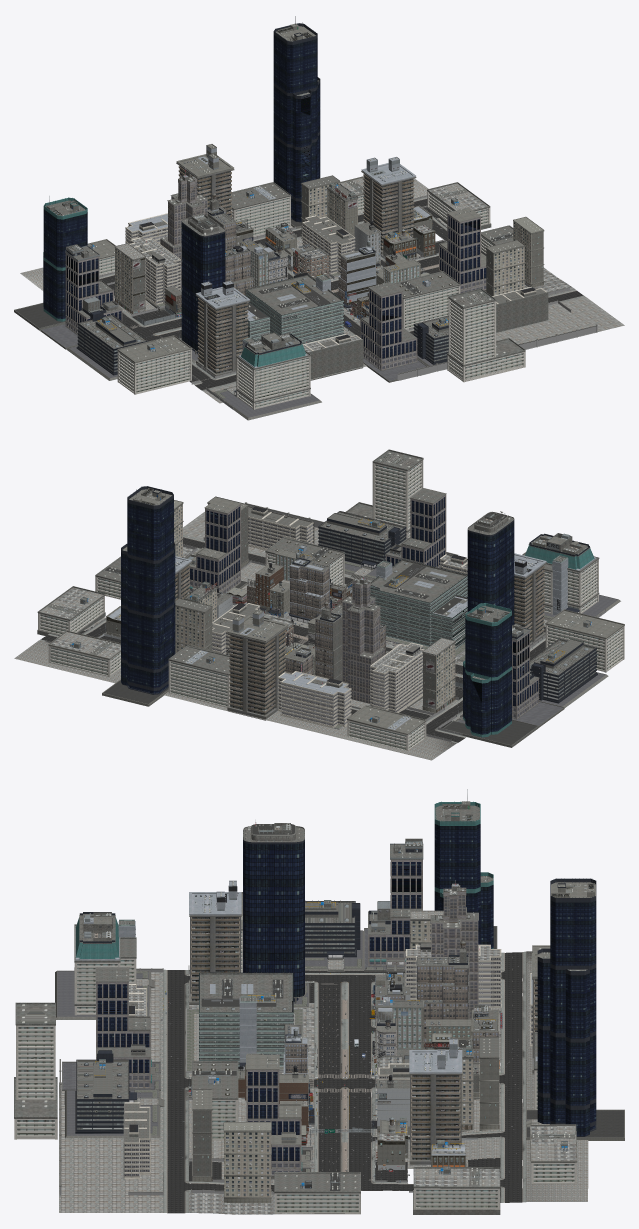
The model's file is full_gameready_city_buildings_retextured.glb.
The picture shows the model from 3 angles, top to bottom: view 1: azimuth 30°, elevation 25°; view 2: azimuth 150°, elevation 25°; view 3: azimuth 270°, elevation 25°; orthographic projection. The views are drawn at different scales.
Visible parts, largest first — view 1: Object_94, Object_18, Object_143, Object_78, Object_204, Object_68, Object_58, Object_145, Object_35, Object_217, Object_168, Object_79 (+16 smaller); view 2: Object_18, Object_94, Object_143, Object_78, Object_204, Object_168, Object_68, Object_58, Object_35, Object_79, Object_145, Object_86 (+14 smaller); view 3: Object_18, Object_94, Object_4, Object_58, Object_143, Object_204, Object_78, Object_68, Object_231, Object_79, Object_35, Object_145 (+21 smaller).
Boxes of the visible parts, bbox=[...] form: Object_94: bbox=[14, 176, 597, 420]; Object_18: bbox=[43, 35, 486, 358]; Object_143: bbox=[99, 191, 525, 409]; Object_78: bbox=[65, 175, 486, 370]; Object_204: bbox=[87, 23, 544, 406]; Object_68: bbox=[176, 162, 416, 375]; Object_58: bbox=[20, 178, 624, 403]; Object_145: bbox=[111, 146, 430, 399]; Object_35: bbox=[78, 183, 448, 371]; Object_217: bbox=[115, 182, 531, 310]; Object_168: bbox=[125, 213, 546, 351]; Object_79: bbox=[66, 23, 448, 395]; Object_18: bbox=[121, 497, 537, 734]; Object_94: bbox=[37, 449, 620, 747]; Object_143: bbox=[38, 460, 624, 750]; Object_78: bbox=[189, 494, 538, 718]; Object_204: bbox=[48, 488, 624, 734]; Object_168: bbox=[212, 509, 467, 728]; Object_68: bbox=[175, 561, 546, 720]; Object_58: bbox=[14, 512, 548, 760]; Object_35: bbox=[191, 520, 595, 699]; Object_79: bbox=[105, 486, 597, 703]; Object_145: bbox=[108, 537, 596, 729]; Object_86: bbox=[285, 566, 385, 678]; Object_18: bbox=[97, 824, 596, 1160]; Object_94: bbox=[14, 801, 574, 1214]; Object_4: bbox=[167, 952, 522, 1213]; Object_58: bbox=[59, 911, 588, 1212]; Object_143: bbox=[14, 930, 576, 1214]; Object_204: bbox=[83, 882, 624, 1203]; Object_78: bbox=[96, 860, 478, 1175]; Object_68: bbox=[189, 915, 537, 1165]; Object_231: bbox=[163, 951, 526, 1213]; Object_79: bbox=[75, 830, 596, 1136]; Object_35: bbox=[77, 900, 472, 1148]; Object_145: bbox=[75, 880, 537, 1155].
Size of the model in its own units: 167 by 70.39 by 151.
Materials: 100 (99 with a texture image).
